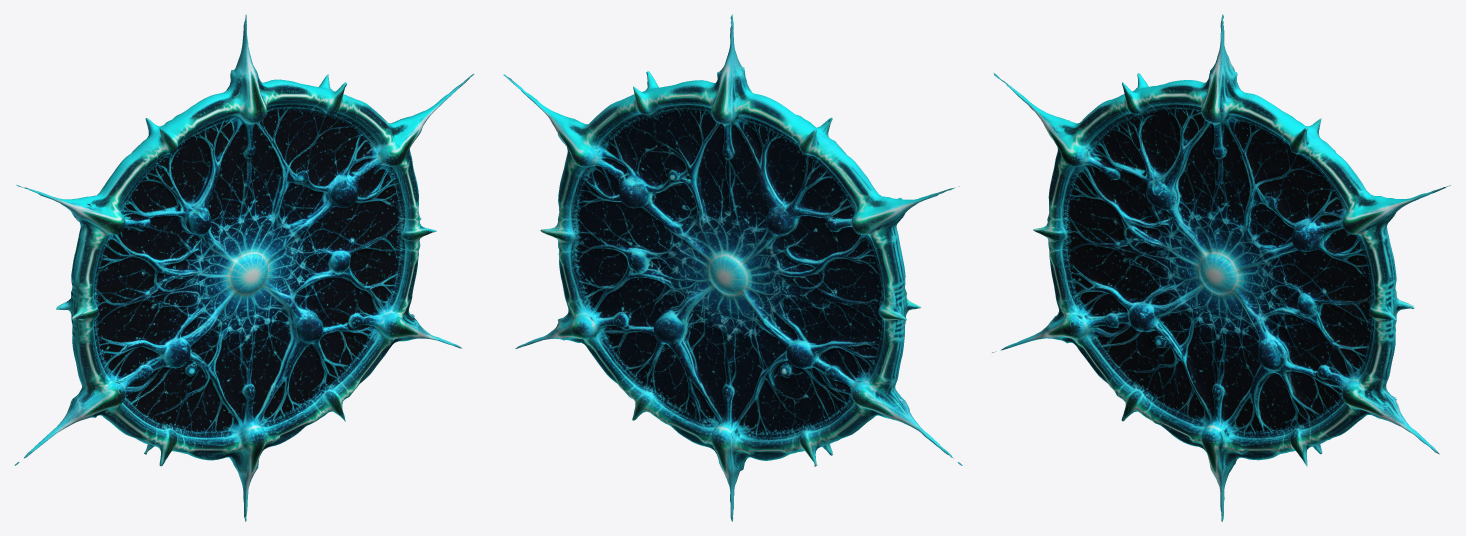
The model's file is node-agent.glb.
3 views of the same model, side by side, from view 1: azimuth 30°, elevation 25°; view 2: azimuth 150°, elevation 25°; view 3: azimuth 330°, elevation 25° (orthographic).
Parts seen in each view (by area): view 1: Mesh_0; view 2: Mesh_0; view 3: Mesh_0.
Part boxes in pixels (x1,y1,x2,y2): Mesh_0: (15, 14, 474, 521); Mesh_0: (503, 14, 962, 521); Mesh_0: (992, 14, 1450, 521).
Size of the model in its own units: 1.67 by 1.77 by 0.1839.
1 material, 1 textured.
